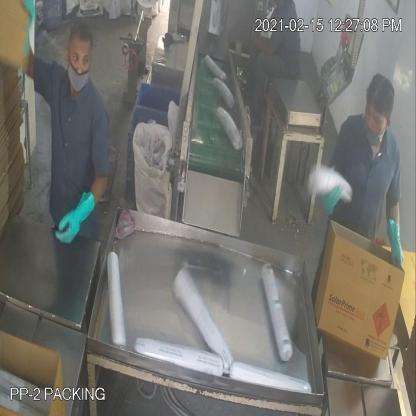glove: (52, 182, 102, 248), (378, 214, 406, 278)
no_glove: (246, 27, 285, 64)
